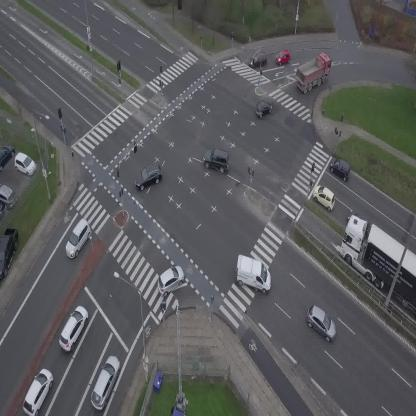car: (86, 353, 124, 411), (18, 366, 58, 416), (55, 303, 93, 354), (299, 303, 343, 343), (59, 217, 97, 260), (151, 261, 190, 298), (130, 162, 166, 191), (200, 146, 234, 175), (309, 183, 340, 212), (326, 154, 356, 182), (252, 98, 274, 119), (247, 50, 269, 68), (273, 48, 292, 66), (347, 210, 369, 222)
lorry: (289, 49, 340, 96), (230, 254, 277, 295)
